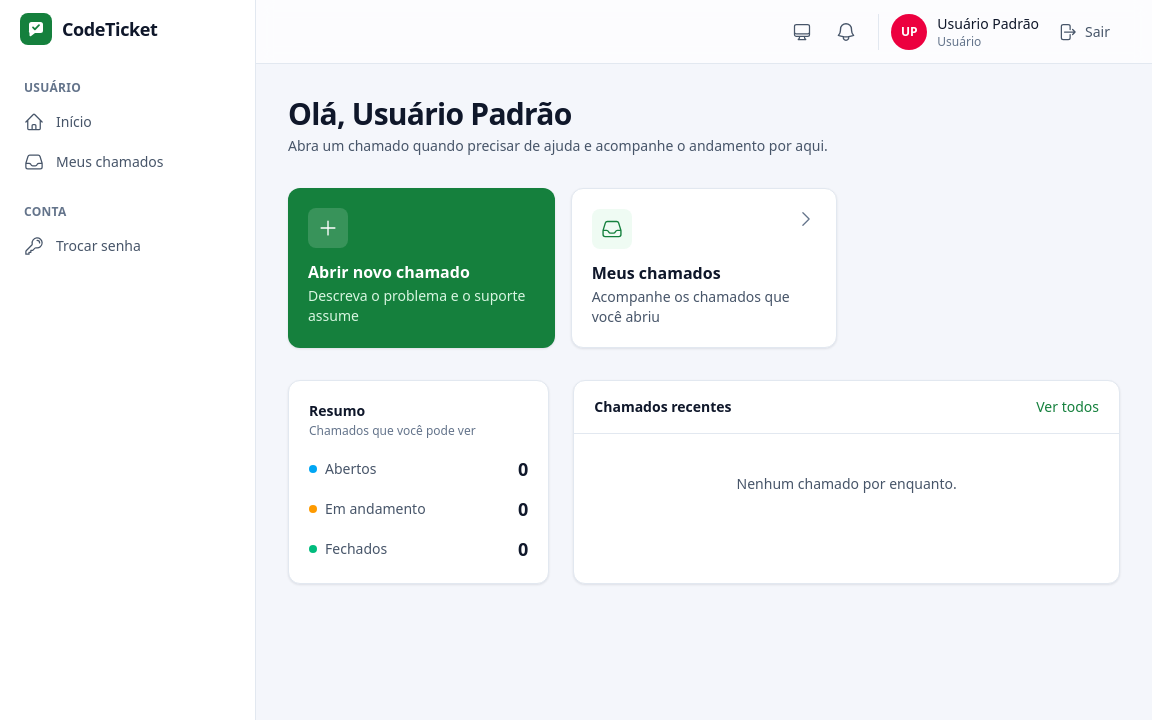
Scenario: HomeView › opening a ticket without leaving the page › opens the form in a dialog and confirms with a link to the new ticket
The image size is (1152, 720).
Click the button "Abrir novo chamado" at (421, 268), box [288, 188, 555, 348]
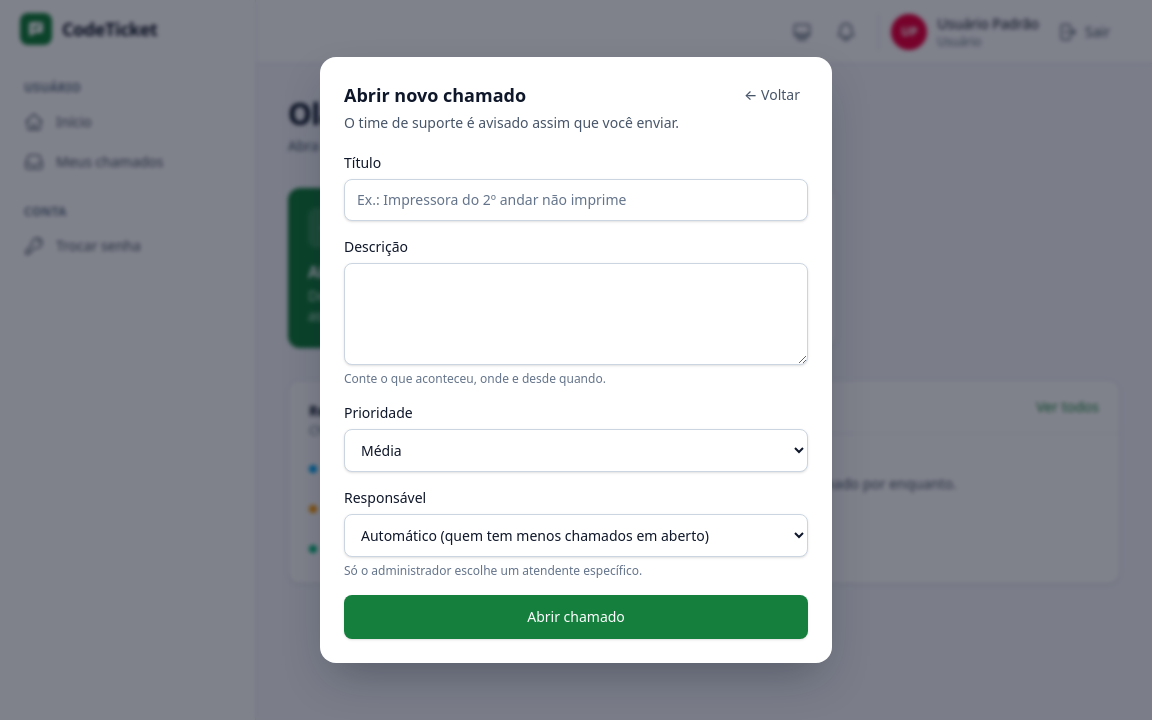
Type "Impressora" into the field labelled "Título" at (576, 200), box [344, 179, 808, 221]
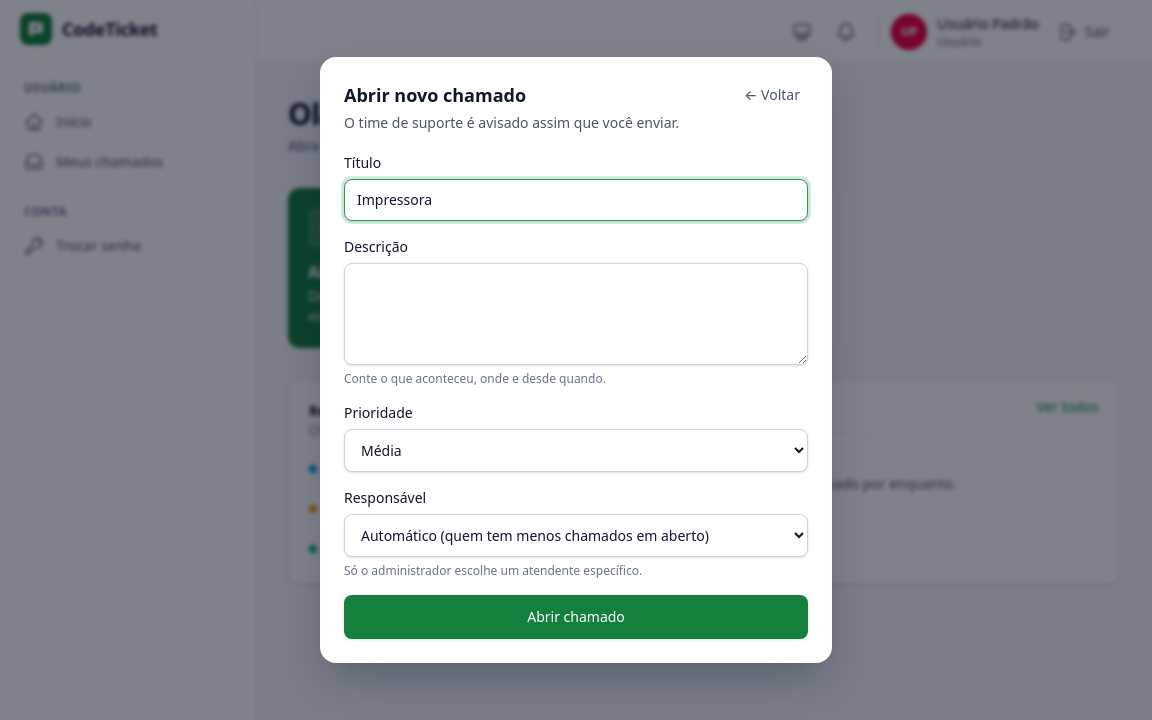
Type "Não imprime" into the text box labelled "Descrição" at (576, 314), box [344, 263, 808, 365]
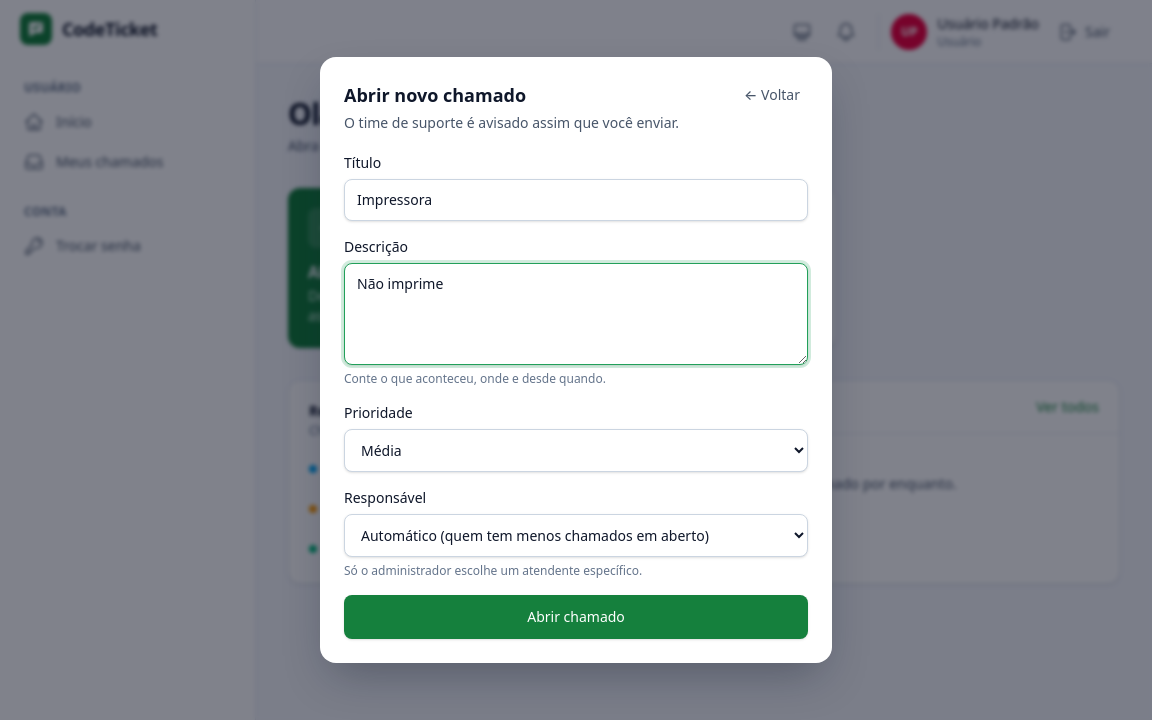
Click the button "Abrir chamado" at (576, 617), box [344, 595, 808, 639]
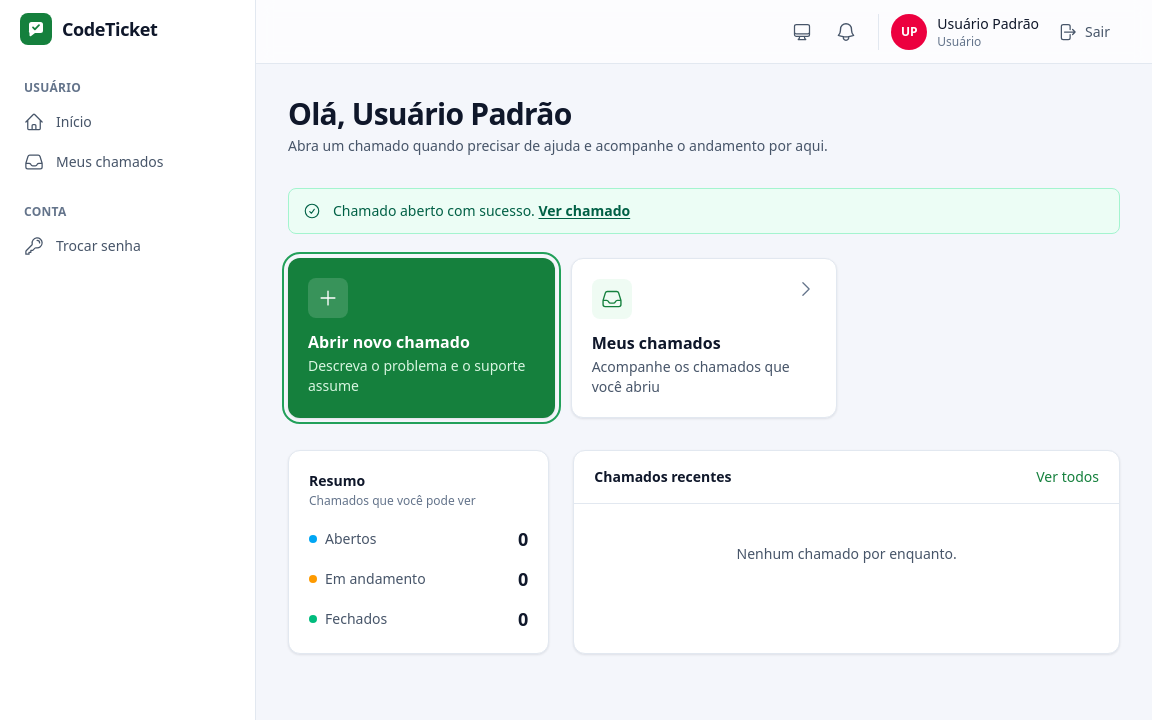
Expected: the dialog is gone
Expected: the message shows "Chamado aberto", [333, 201, 538, 220]
